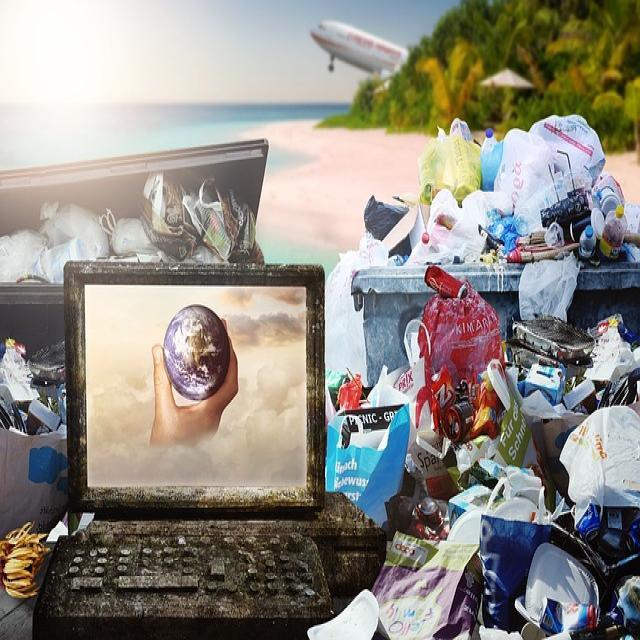trash: (368, 128, 640, 593), (7, 176, 249, 256), (1, 323, 57, 561)
